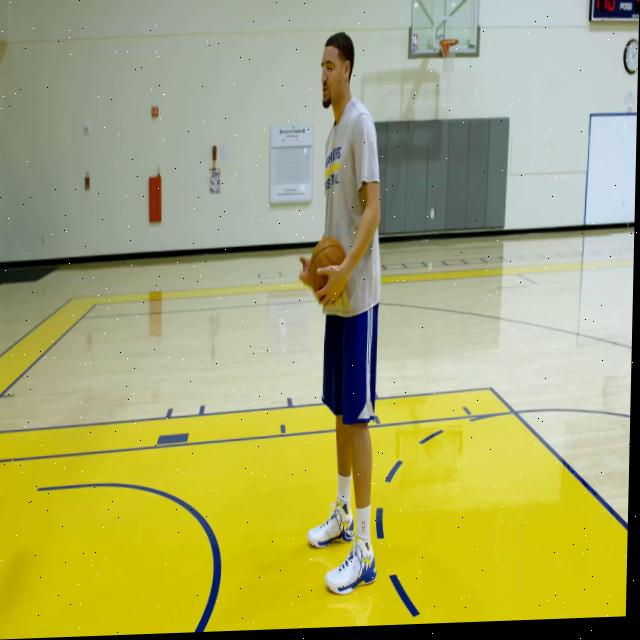basketball: (307, 234, 348, 305)
hoop: (439, 39, 459, 72)
